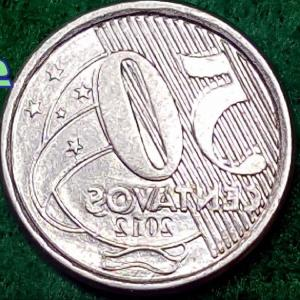50 cent: (0, 0, 294, 295)
